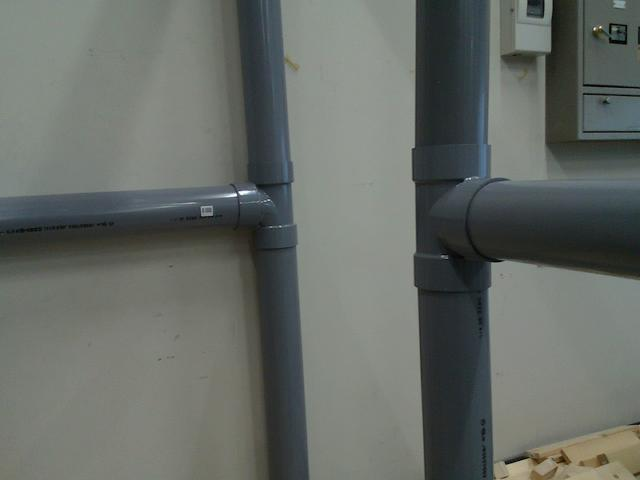junction: (408, 143, 518, 292), (228, 160, 301, 251)
